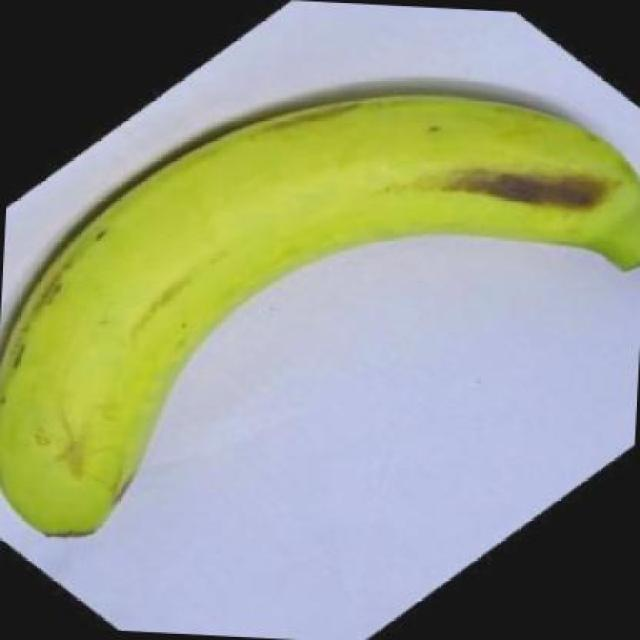ripe: (0, 59, 640, 564)
